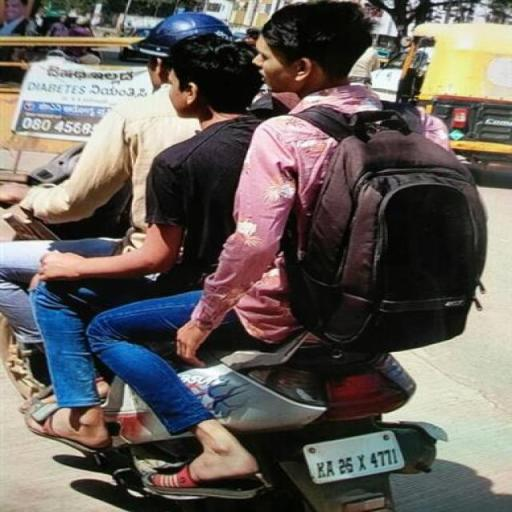tripple riding: (24, 0, 502, 353)
